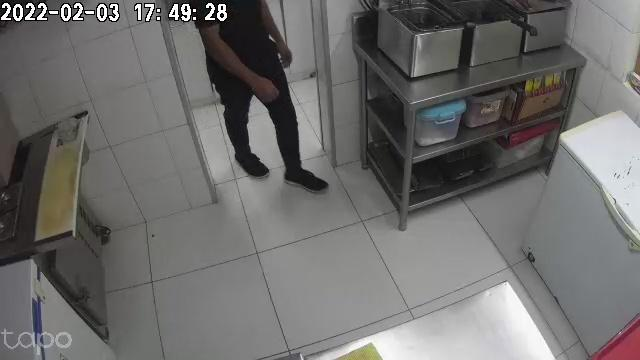no_gloves: (247, 71, 278, 103)
